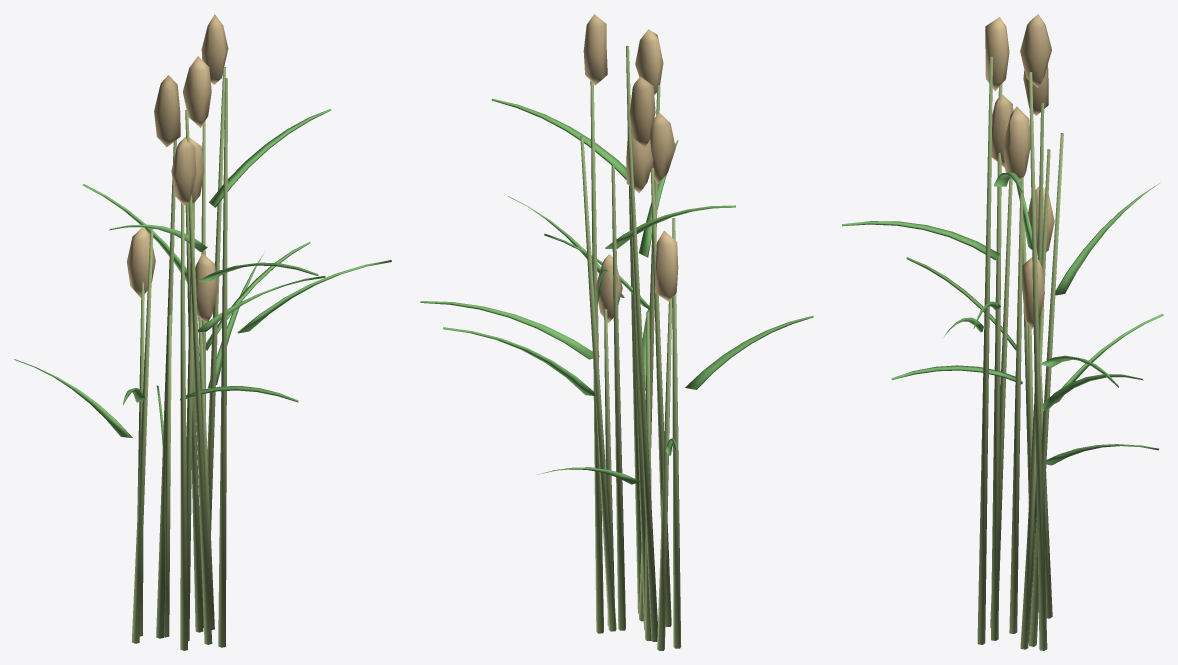
File: reed_2.glb
3 views of the same model, side by side, from view 1: azimuth 30°, elevation 25°; view 2: azimuth 150°, elevation 25°; view 3: azimuth 270°, elevation 25° (orthographic). The views are drawn at different scales.
Visible parts, largest first — view 1: reed; view 2: reed; view 3: reed.
Part boxes in pixels (left/top/right/bottom): reed: left=14, top=14, right=391, bottom=650; reed: left=420, top=14, right=813, bottom=650; reed: left=842, top=14, right=1163, bottom=650.
Size of the model in its own units: 0.8943 by 1.8 by 0.822.
